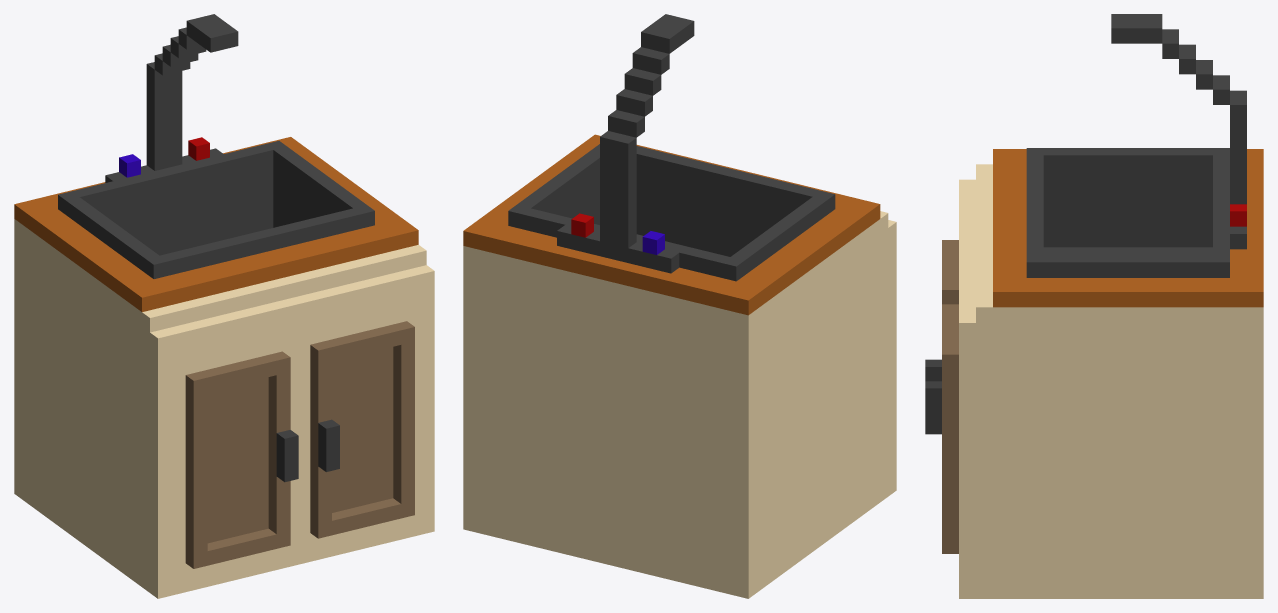
The model's file is Kitchen_TableV12.obj.
The picture shows the model from 3 angles, left to right: view 1: azimuth 30°, elevation 25°; view 2: azimuth 150°, elevation 25°; view 3: azimuth 270°, elevation 25°; orthographic projection. The views are drawn at different scales.
Bounding box in the file's own units: 2 × 3.3 × 2.
1 material, 1 textured.
